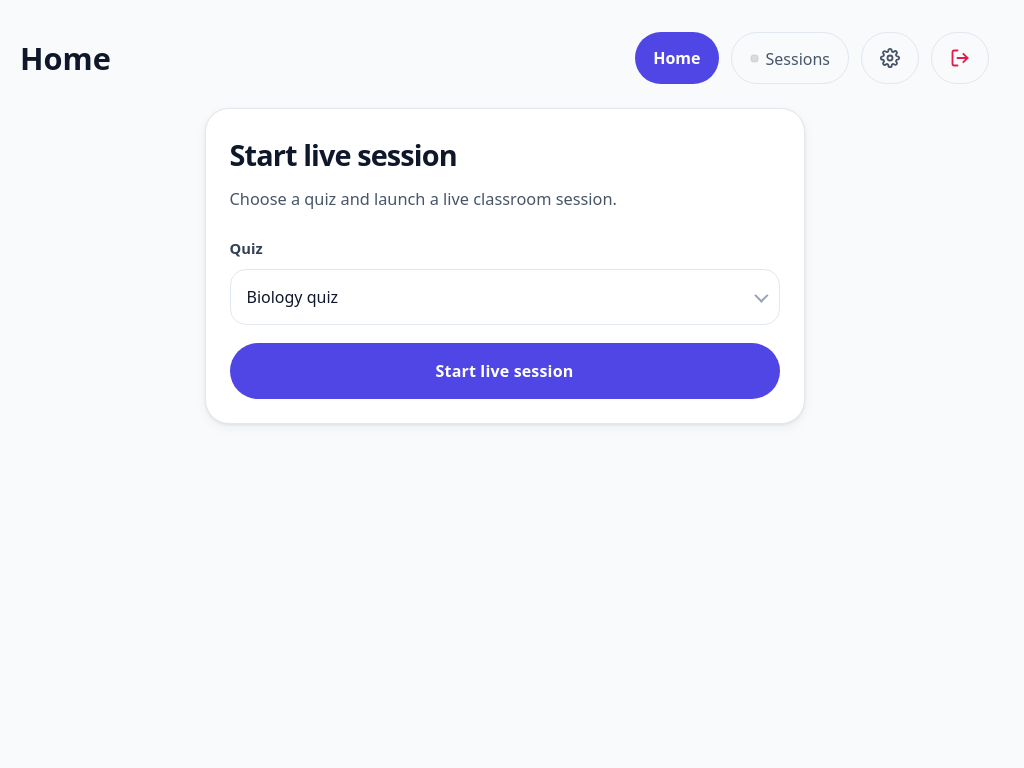
Test: App › saves quiz drafts locally without saving to the database
Click the 1st button named "Settings" at (890, 58), box [861, 32, 919, 84]
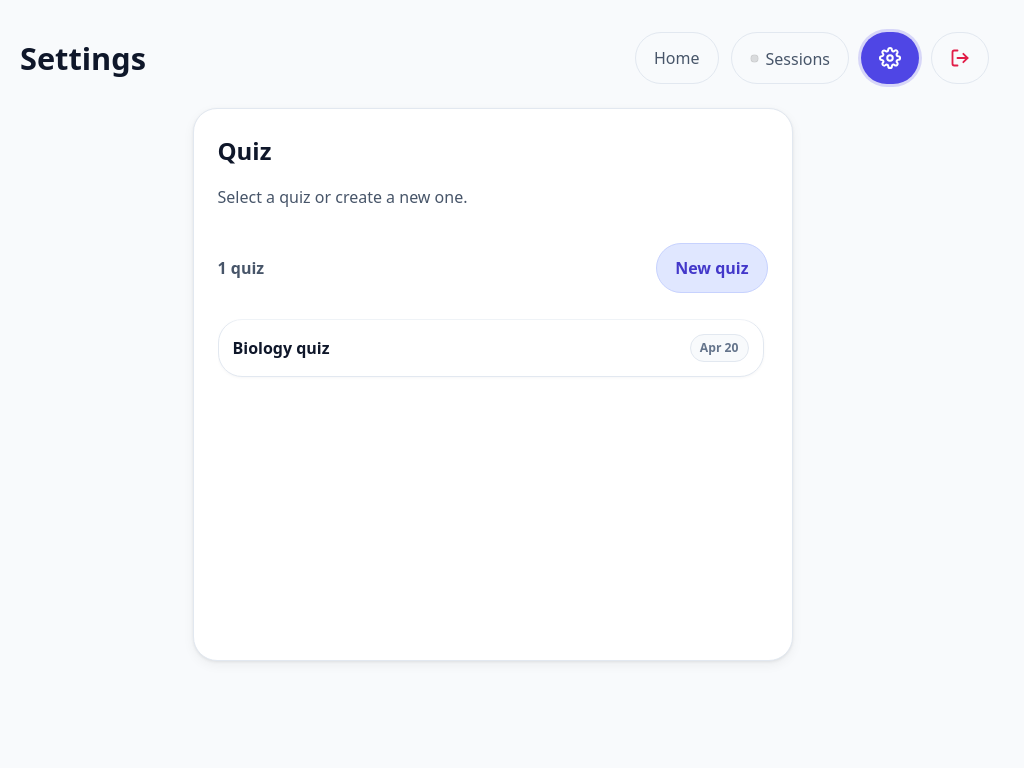
Click the button "New quiz" at (712, 268), box [656, 243, 768, 293]
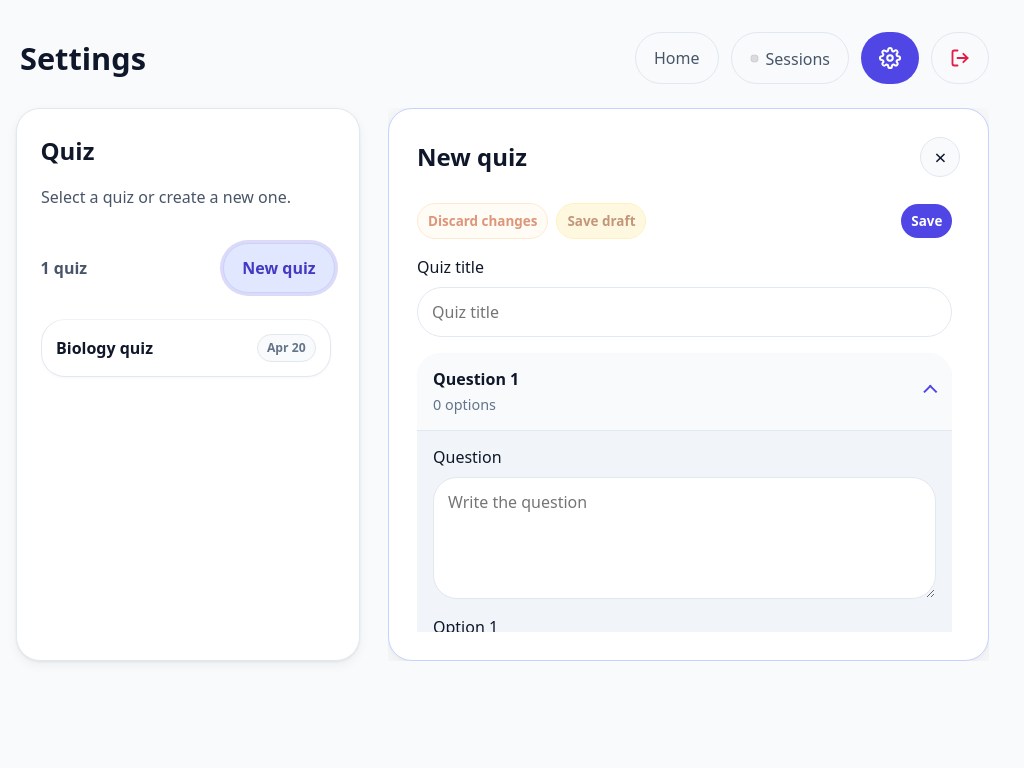
Type "Local draft" into the field labelled "Quiz title" at (684, 312), box [417, 287, 952, 337]
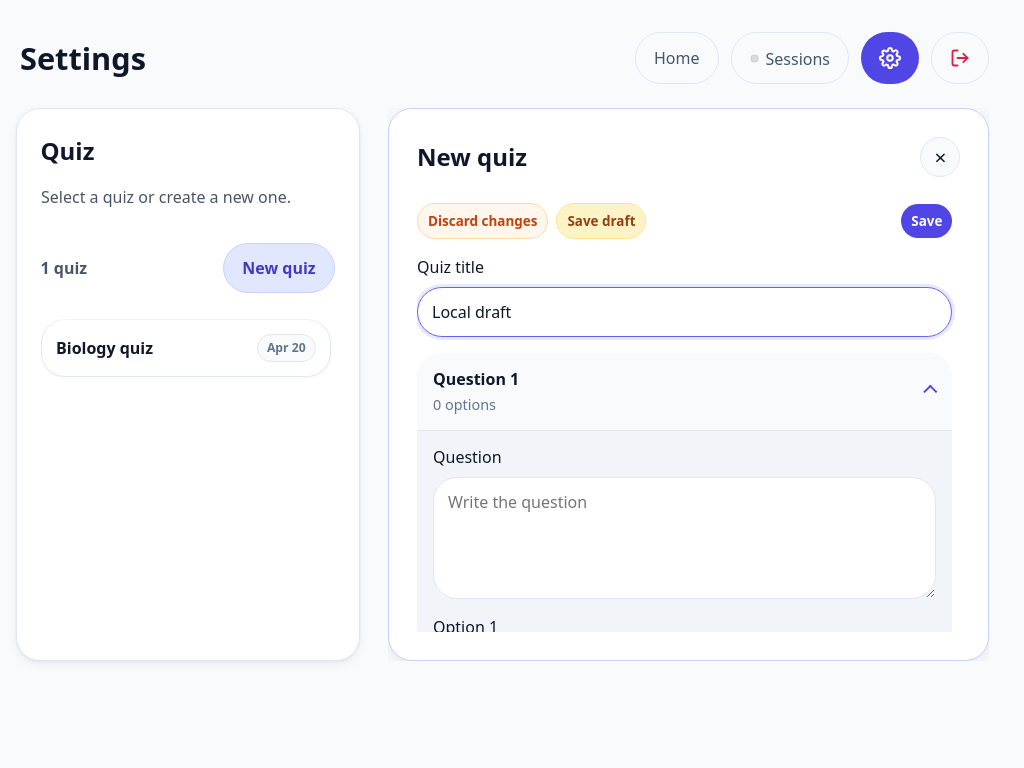
Click the button "Save draft" at (601, 221), box [556, 203, 646, 239]
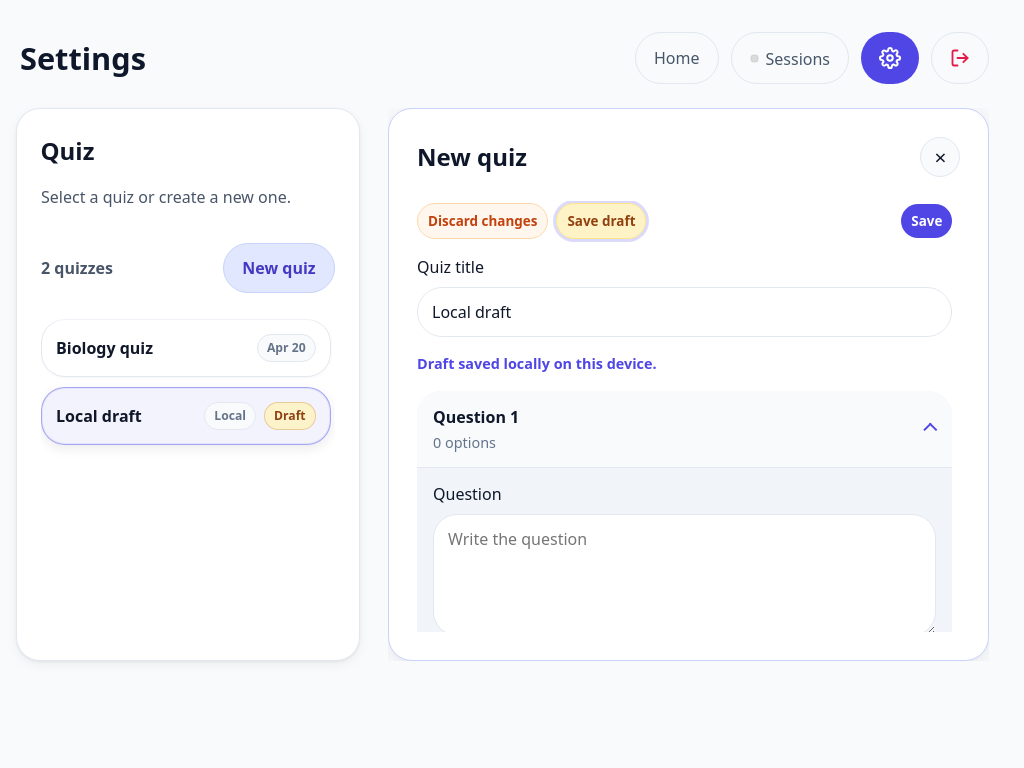
Result: the text "Draft saved locally on this device." is shown at [417, 354, 656, 373]
Result: the text "Local draft" is shown at [56, 405, 142, 427]
